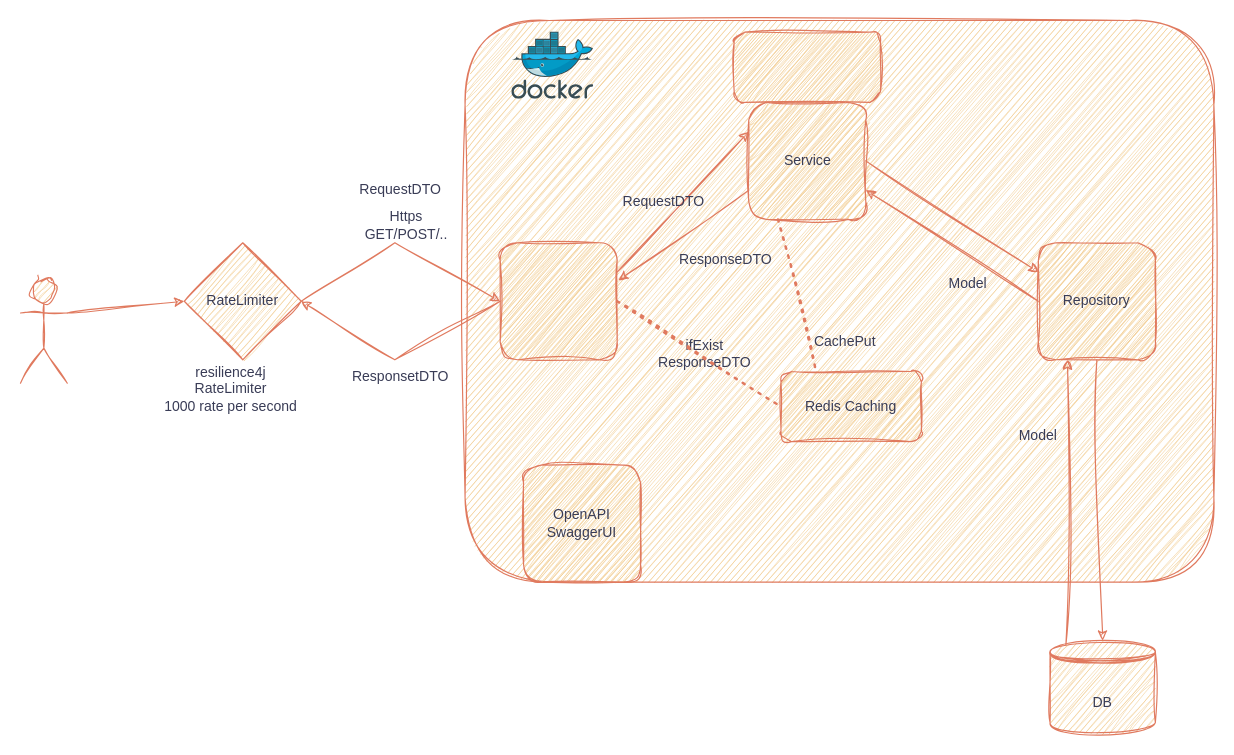
Image size: 1234x755. Some labels were removed from this diagram. Here are the shapes that lost their labels. From the top down, the centre of each, then its label:
At (806,66): "Validator Loger ExHandler".
At (558,301): "API".
At (43,330): "Actor".
